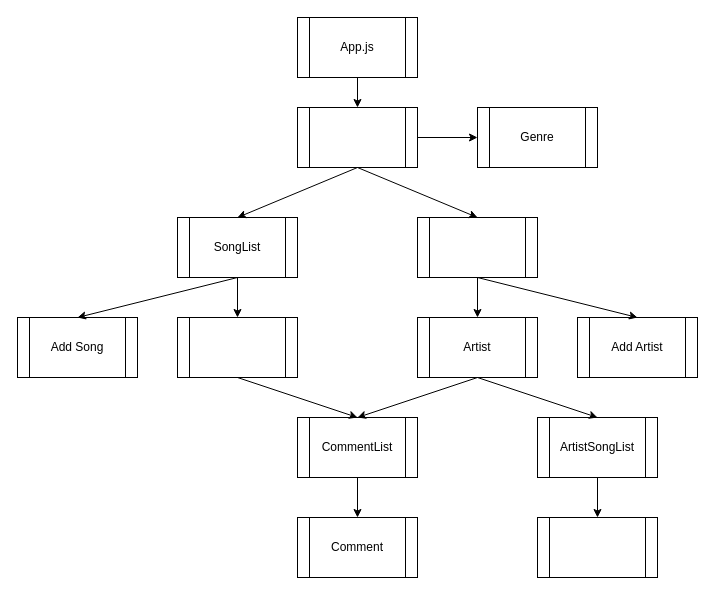
This 715x595 diagram has some shape labels left out. Here are the shapes that lost their labels. From the top down, the centre of each, then its label:
At pixel 357 137: "GenreList".
At pixel 477 247: "ArtistList".
At pixel 237 347: "Song".
At pixel 597 547: "ArtistSong".
